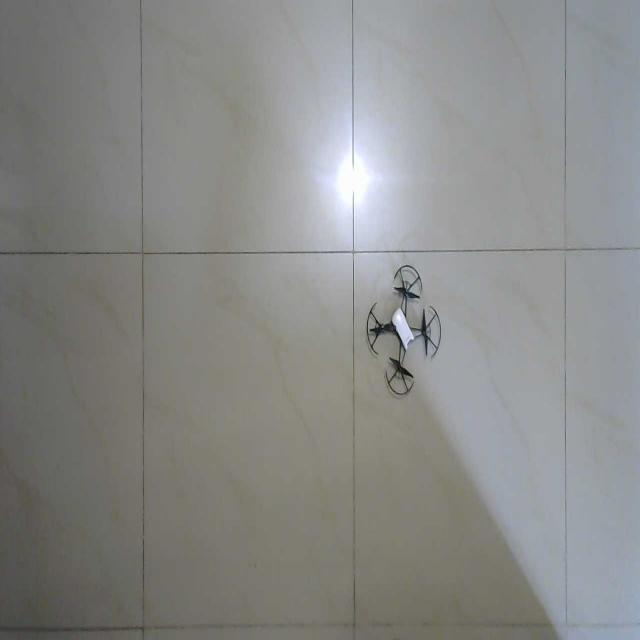drone: (366, 263, 442, 397)
